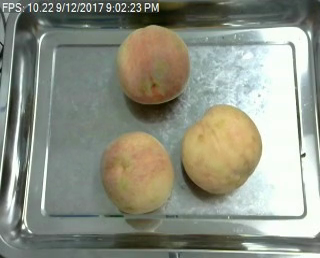Peach: (181, 103, 262, 193), (99, 130, 173, 214), (116, 24, 190, 104)
